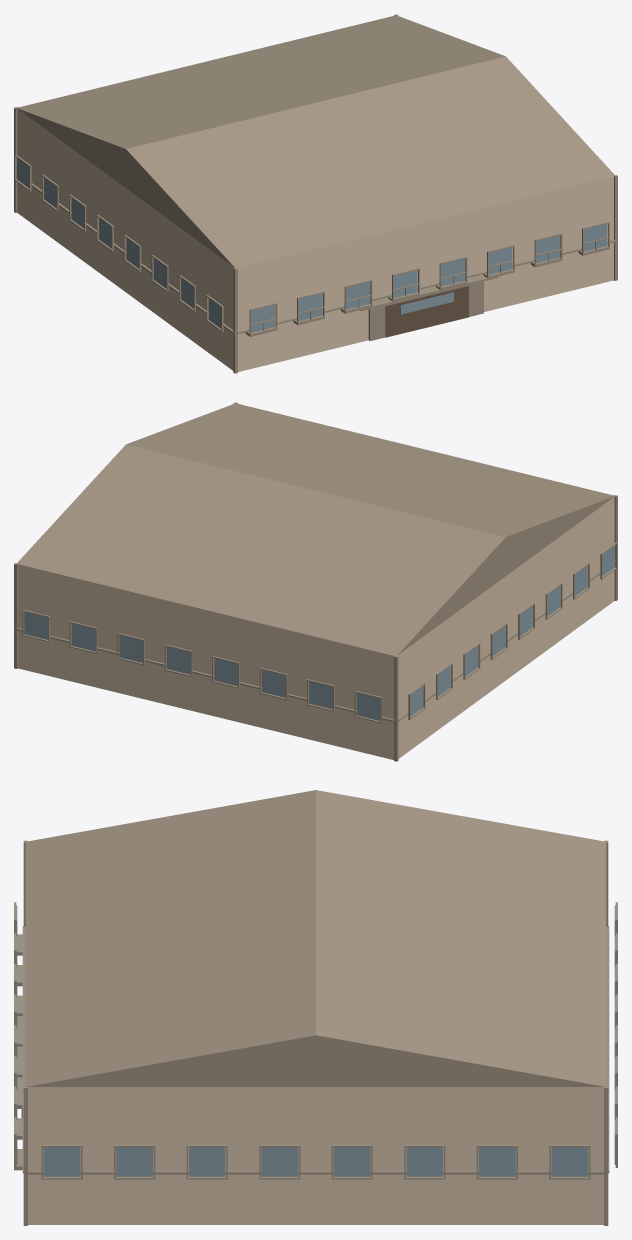
Rendered from lot_4x4_gable.glb.
The picture shows the model from 3 angles, top to bottom: view 1: azimuth 30°, elevation 25°; view 2: azimuth 150°, elevation 25°; view 3: azimuth 270°, elevation 25°; orthographic projection. The views are drawn at different scales.
Parts seen in each view (by area): view 1: lot_4x4_gable; view 2: lot_4x4_gable; view 3: lot_4x4_gable.
Boxes of the visible parts, bbox=[...] form: lot_4x4_gable: bbox=[14, 14, 617, 373]; lot_4x4_gable: bbox=[14, 402, 617, 761]; lot_4x4_gable: bbox=[14, 790, 617, 1225].
Size of the model in its own units: 31.74 by 11 by 31.74.
